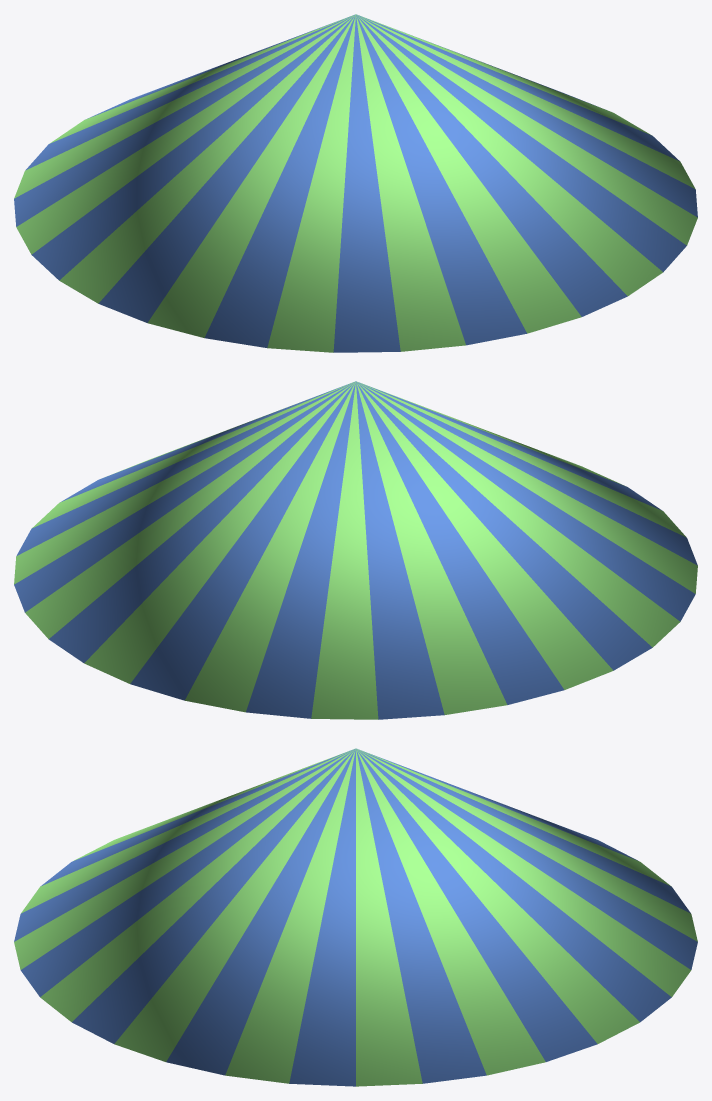
The model's file is ufo2.glb.
The picture shows the model from 3 angles, top to bottom: view 1: azimuth 30°, elevation 25°; view 2: azimuth 150°, elevation 25°; view 3: azimuth 270°, elevation 25°; orthographic projection.
Visible parts, largest first — view 1: 锥体; view 2: 锥体; view 3: 锥体.
Part boxes in pixels (x1,y1,x2,y2): 锥体: [14, 14, 697, 352]; 锥体: [14, 381, 697, 719]; 锥体: [14, 748, 697, 1086].
Bounding box in the file's own units: 0.16 × 0.05 × 0.16.
